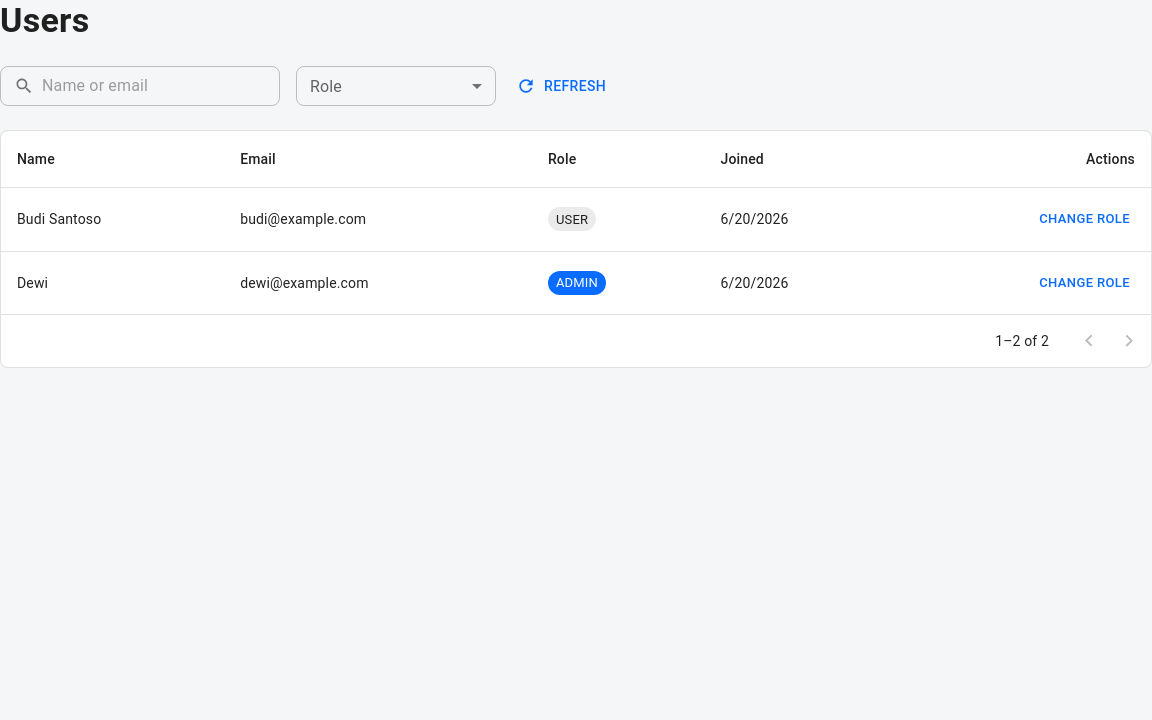
Test: UsersListPage › opens the change-role dialog titled with the user name when "Change role" is clicked
Expected: the text "Budi Santoso" is shown, [17,211,101,227]
Click the button "Change role" in the row of "Budi Santoso".
click(1085, 219)  # box [1034,204,1135,235]
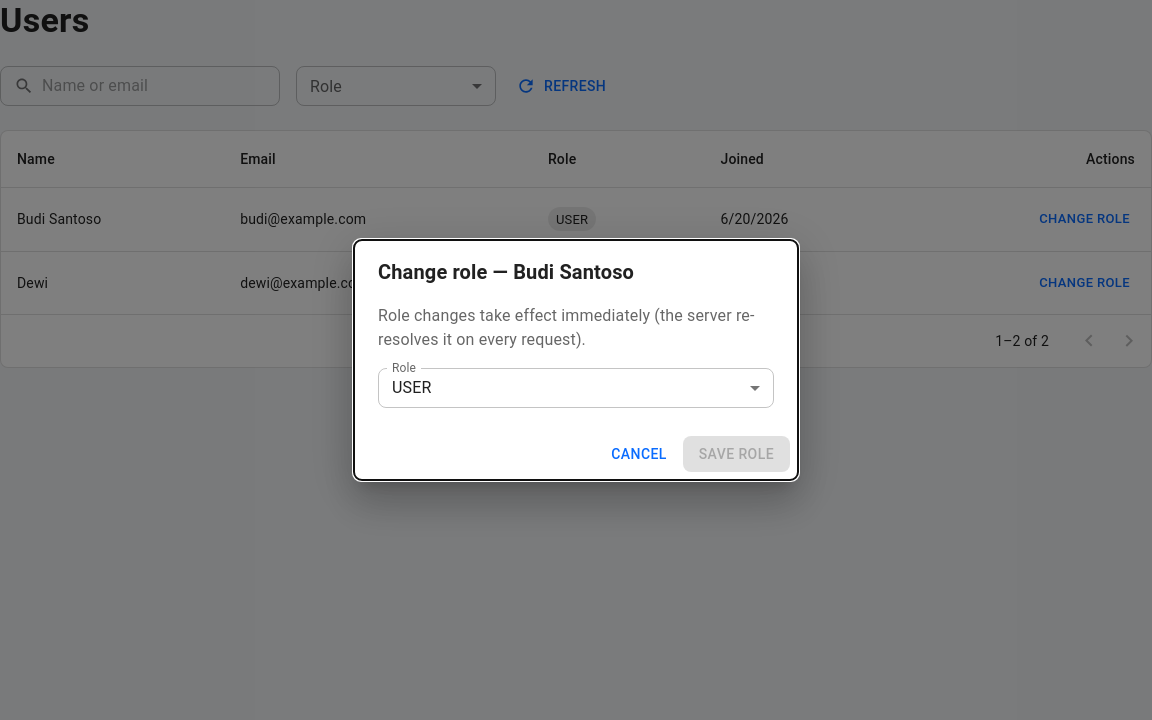
Expected: the heading "Change role — Budi Santoso" is shown, [378,260,634,284]
